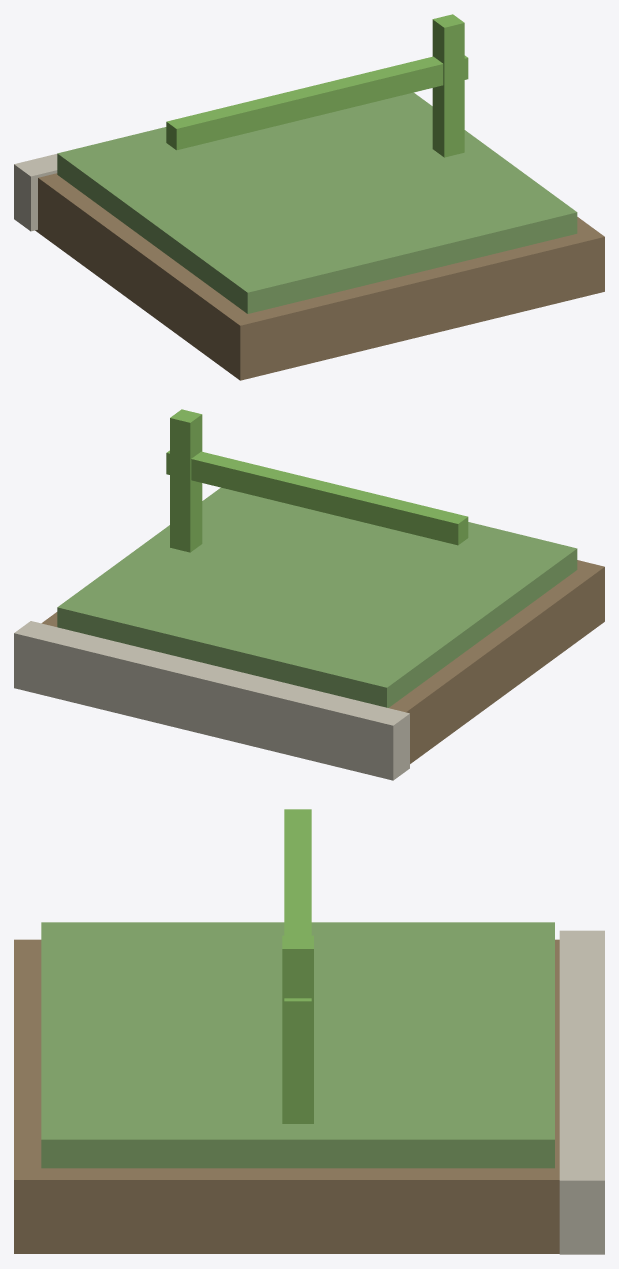
The model's file is 22_HangRaoTre.glb.
3 views of the same model, one above another, from view 1: azimuth 30°, elevation 25°; view 2: azimuth 150°, elevation 25°; view 3: azimuth 270°, elevation 25° (orthographic). The views are drawn at different scales.
Visible parts, largest first — view 1: grass, soil, rail, post, border; view 2: grass, border, soil, rail, post; view 3: grass, soil, border, post, rail.
Part boxes in pixels (<box>): grass: <box>57,92,577,313</box>; soil: <box>35,173,604,380</box>; rail: <box>166,55,468,150</box>; post: <box>432,14,464,157</box>; border: <box>14,154,57,231</box>; grass: <box>57,487,577,707</box>; border: <box>14,621,409,780</box>; soil: <box>41,560,604,763</box>; rail: <box>166,450,468,545</box>; post: <box>170,409,202,552</box>; grass: <box>41,922,554,1168</box>; soil: <box>14,939,559,1253</box>; border: <box>559,930,604,1254</box>; post: <box>282,935,313,1123</box>; rail: <box>284,809,311,1030</box>.
Size of the model in its own units: 1.3 by 0.675 by 1.3.
